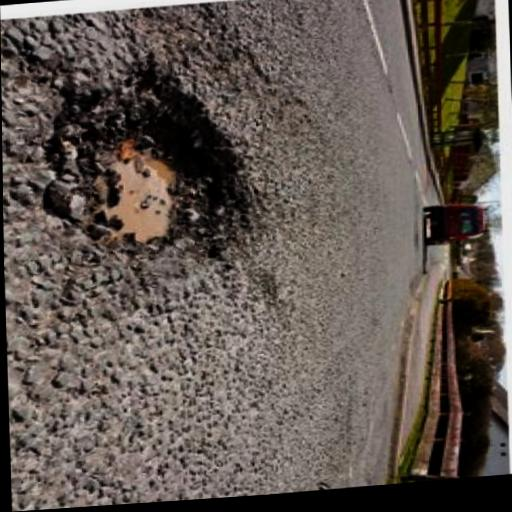pothole: (28, 82, 252, 244)
